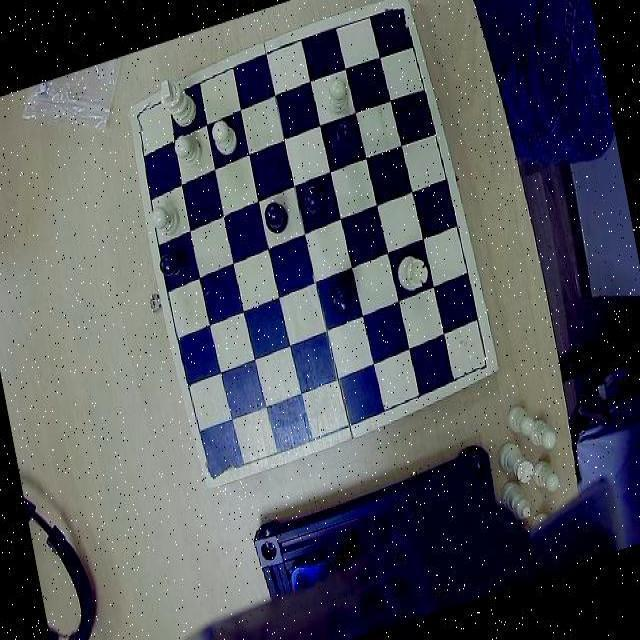chess-table-corners: (200, 448, 236, 487), (461, 343, 496, 381), (382, 0, 415, 33), (128, 98, 158, 134)
